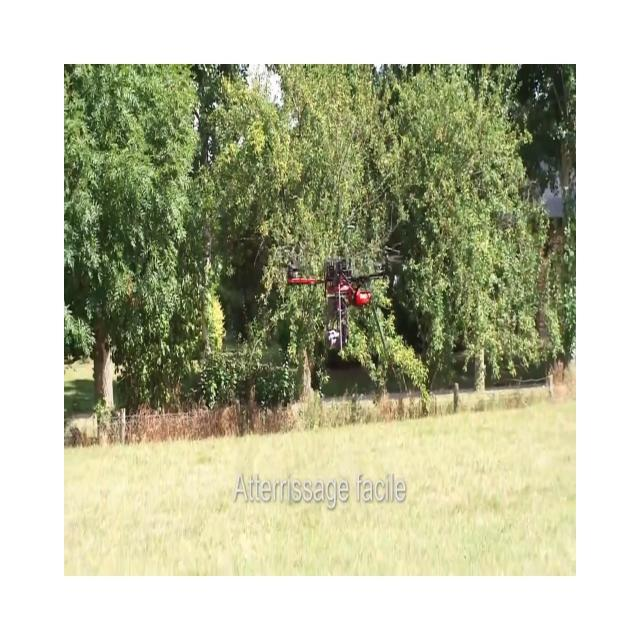drone: (285, 235, 404, 360)
